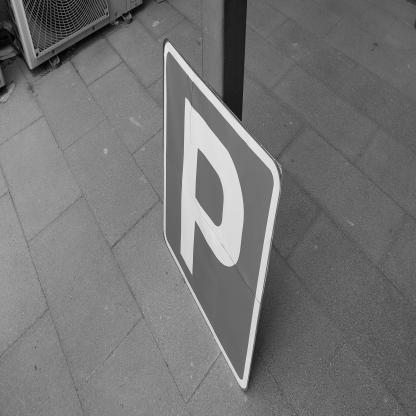Parking-Sign: (162, 37, 285, 391)
